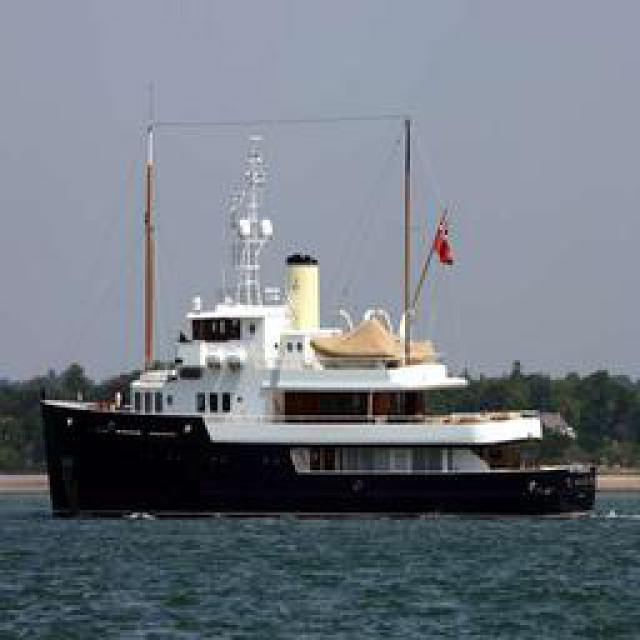Ship: (46, 85, 599, 518)
